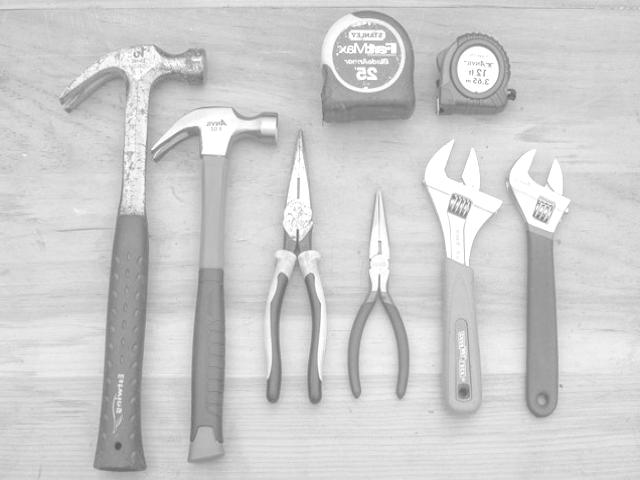Adjustable spanner: (424, 140, 502, 415), (508, 150, 570, 416)
Hammer: (60, 45, 205, 470), (151, 106, 276, 461)
Needle-nose pliers: (265, 130, 326, 403), (348, 190, 409, 398)
Tape measure: (321, 11, 414, 121), (436, 32, 516, 114)
